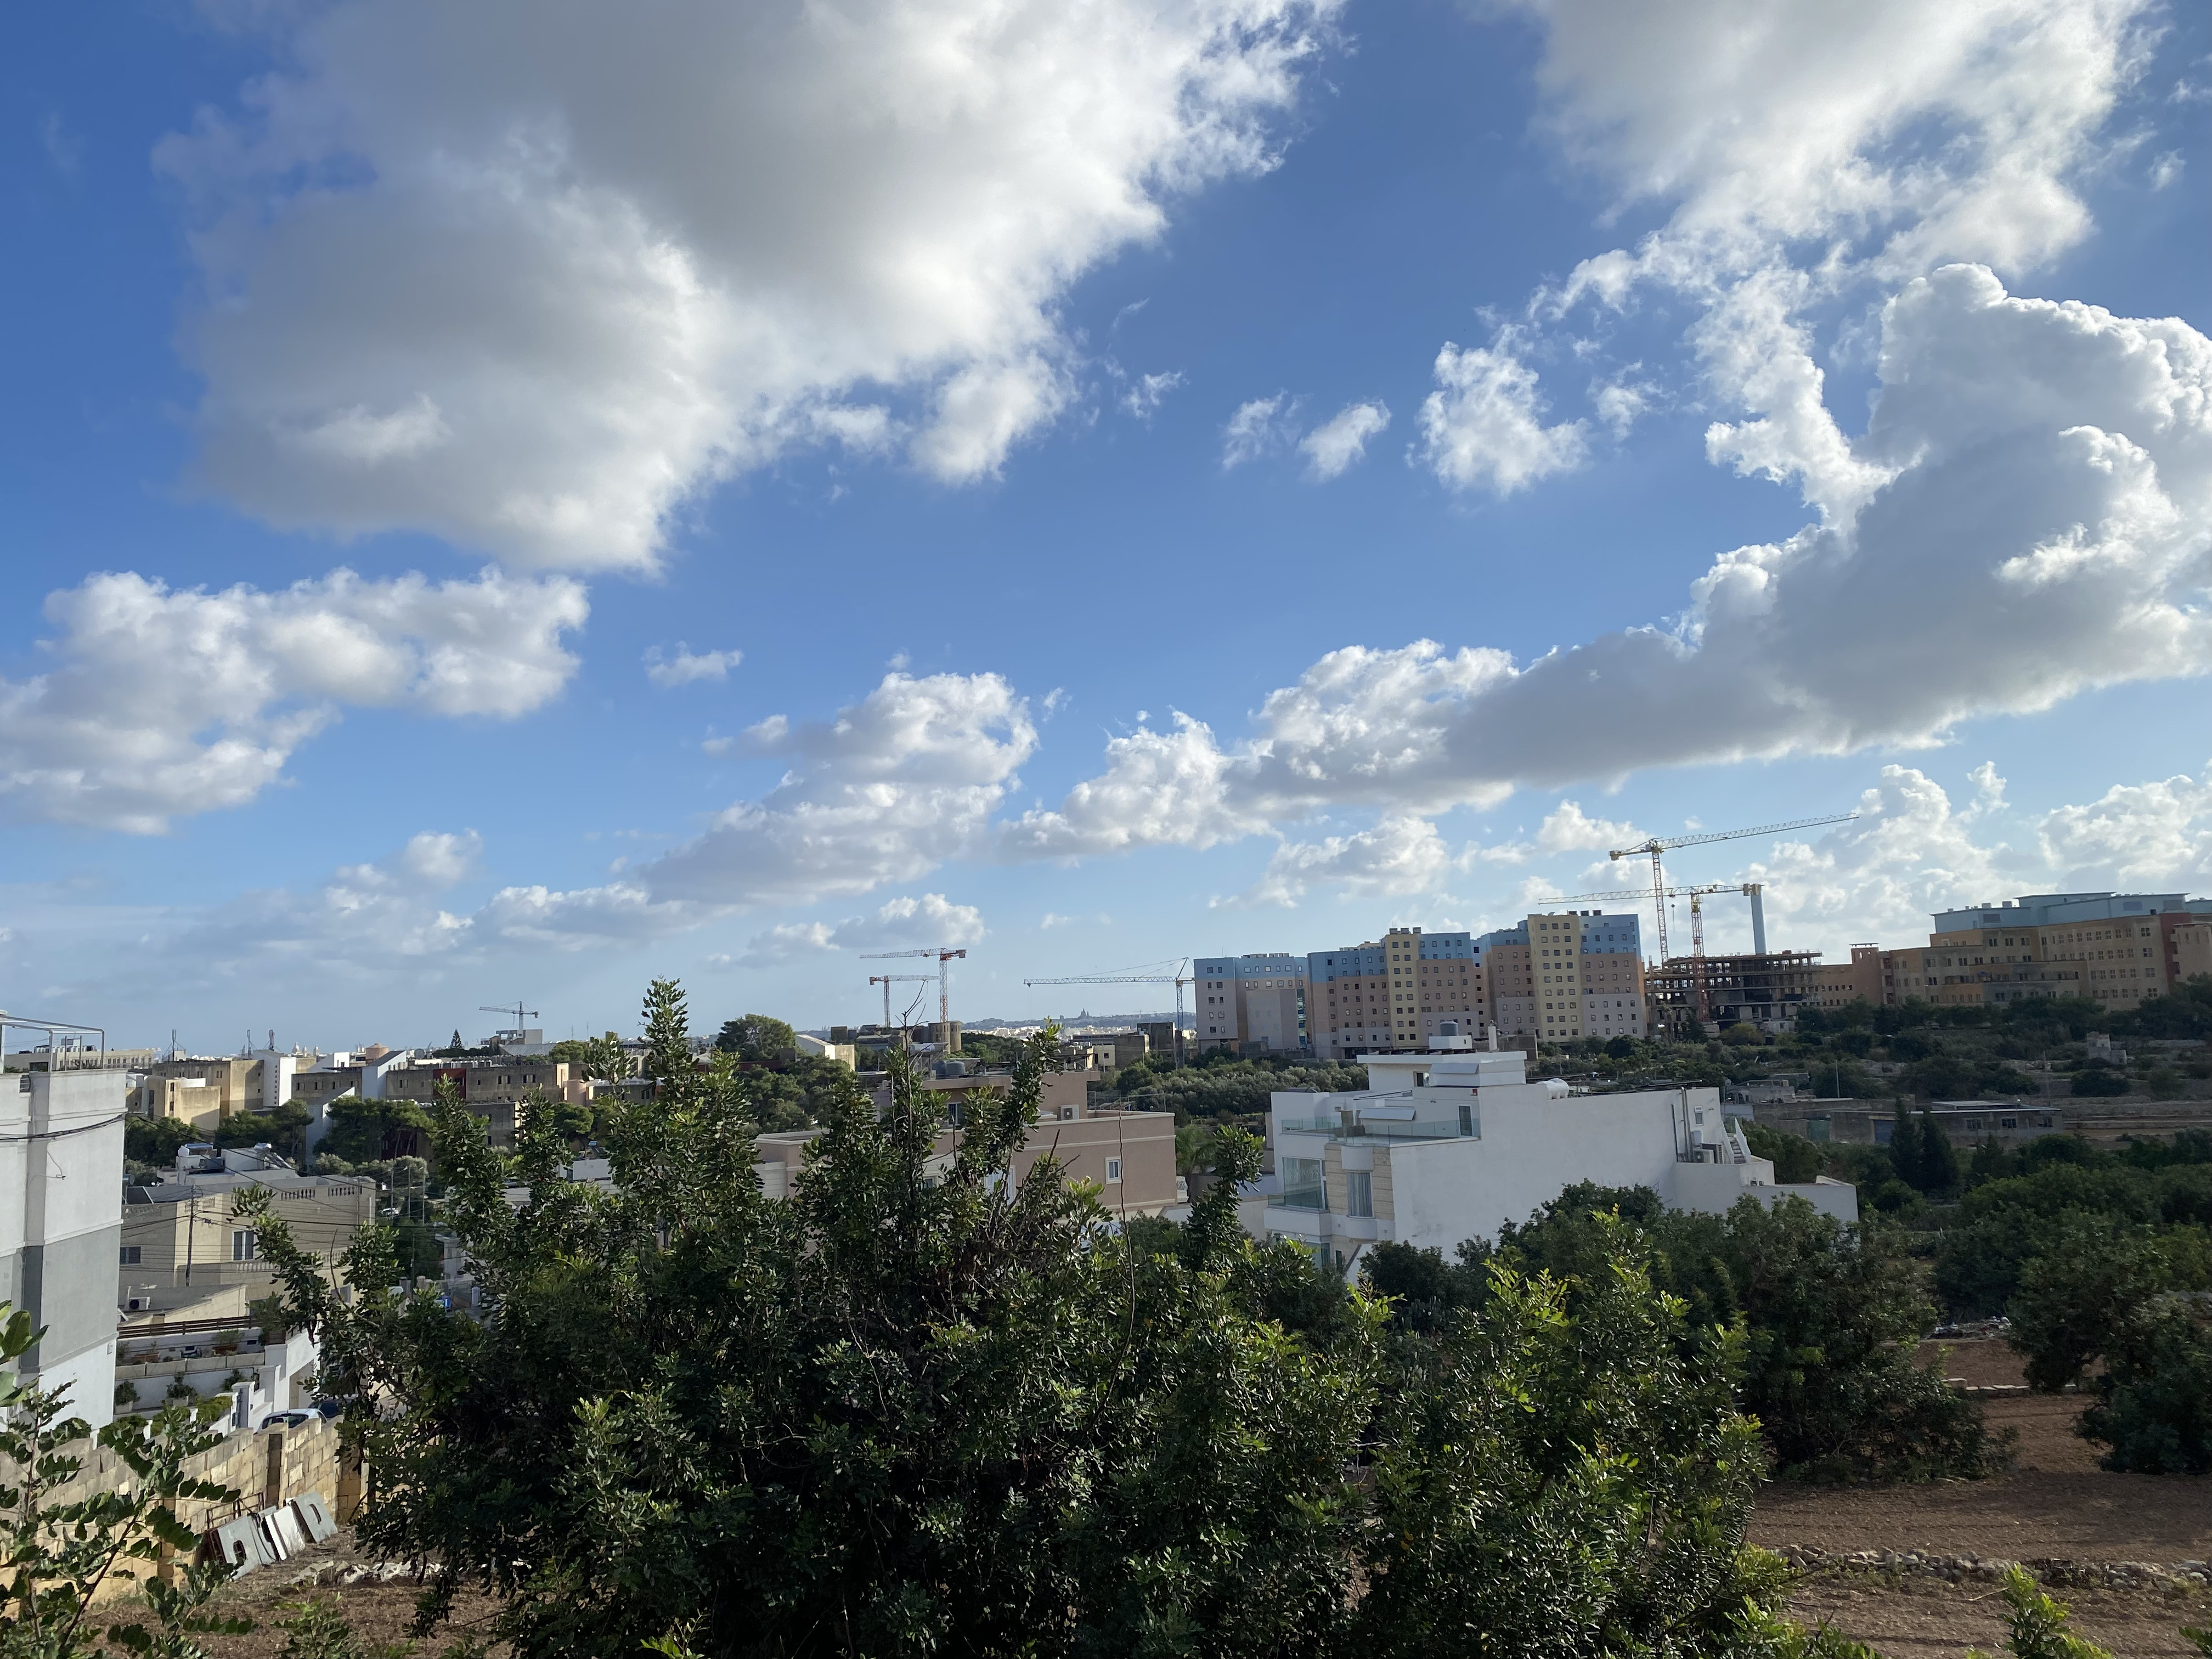Crane: (1608, 791, 1879, 993), (855, 925, 1010, 1026), (1029, 950, 1238, 1021), (465, 990, 557, 1042)
